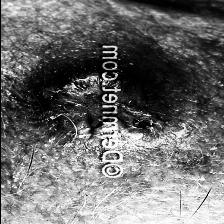Potentially Malignant Skin Tumors: (37, 67, 190, 145)
